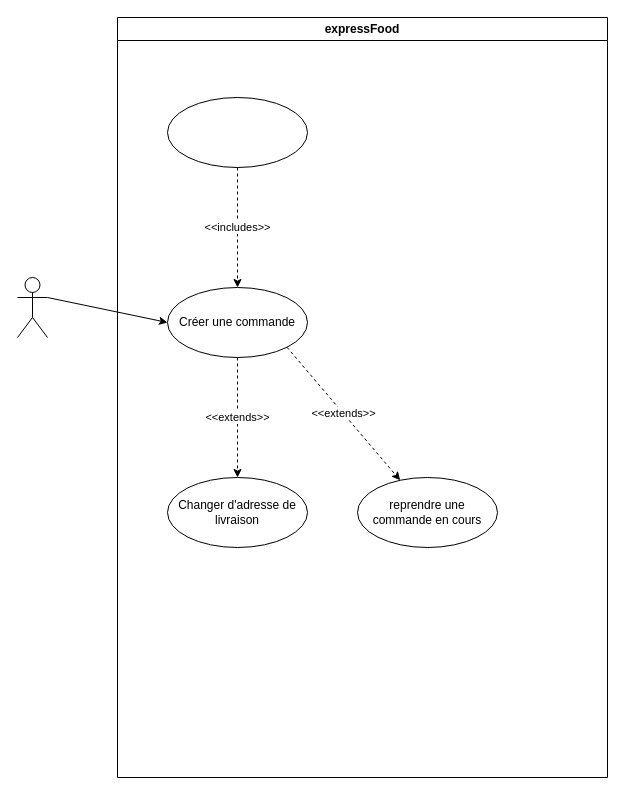
This 625x795 diagram has some shape labels left out. The centre of each missing label's shape, as x and y in pixels:
"Client" goes at point 32,307.
"se connecter" goes at point 237,132.
